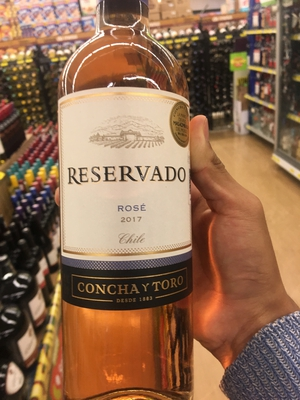reservado rose: (59, 10, 192, 400)
